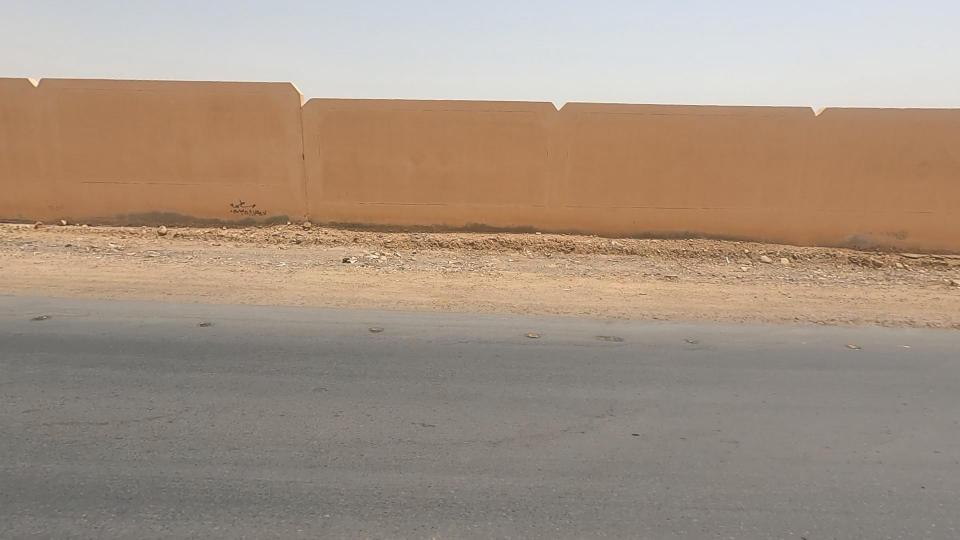GRAFFITI: (180, 170, 307, 244)
